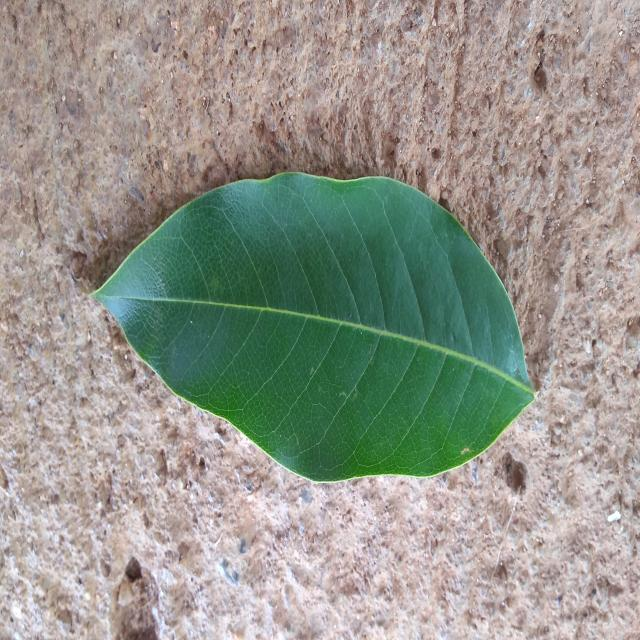sampige: (95, 173, 534, 482)
